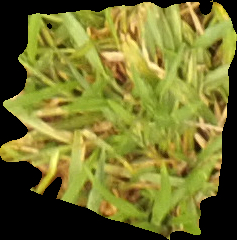grass: (1, 1, 235, 238)
